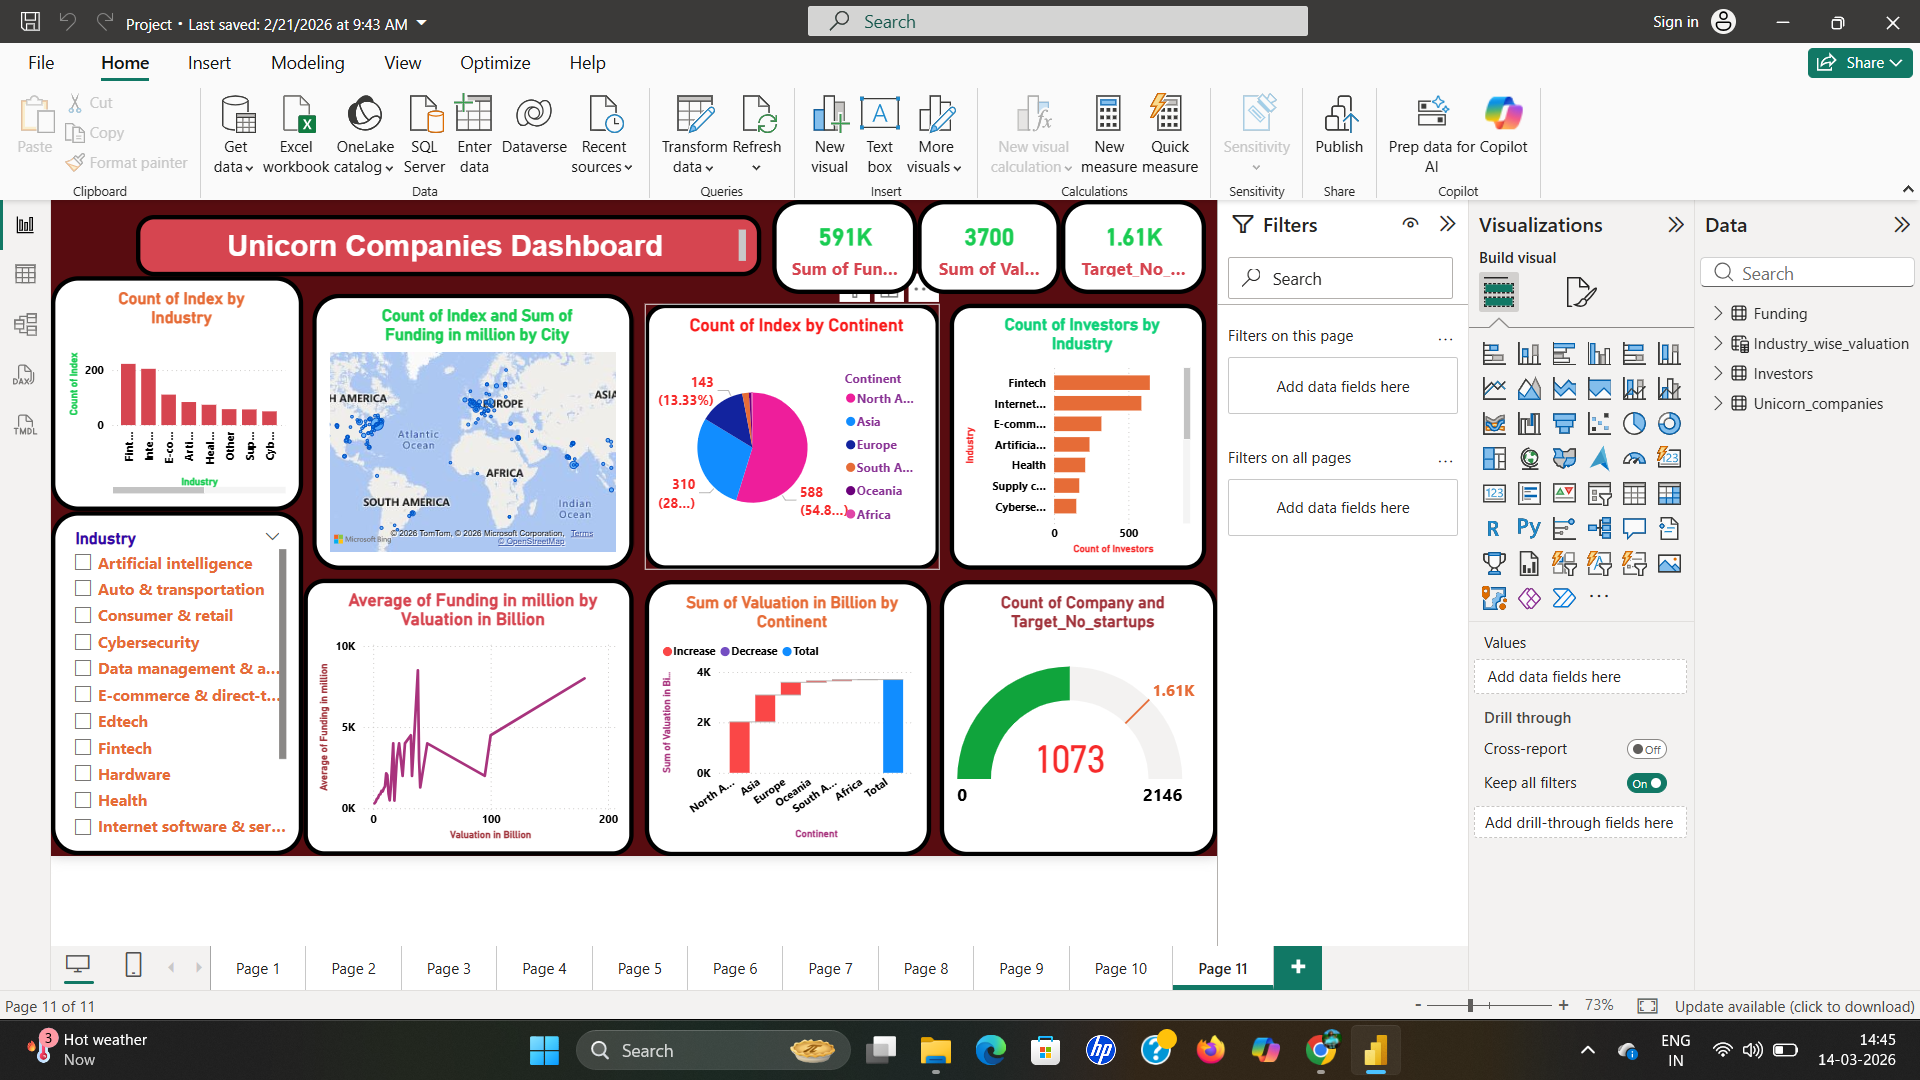

This screenshot's page, from the dashboard's own definition file:
{"tool":"powerbi","page":{"name":"Page 11","canvas":[1280,720],"ordinal":10},"visuals":[{"type":"clusteredColumnChart","fields":{"Category":["Unicorn_companies.Industry"],"Y":["CountNonNull(Unicorn_companies.Index)"]},"box":[0,83.7,277.2,258],"z":0},{"type":"map","fields":{"Category":["Unicorn_companies.City"],"Size":["CountNonNull(Unicorn_companies.Index)"]},"box":[286.8,102.9,352.7,303.3],"z":1000},{"type":"slicer","fields":{"Values":["Unicorn_companies.Industry"]},"box":[0,341.7,277.2,377.4],"z":2000},{"type":"card","fields":{"Values":["Unicorn_companies.Target_No_startups"]},"box":[1108.8,0,159.2,102.9],"z":3000},{"type":"lineChart","fields":{"Category":["Unicorn_companies.Valuation in Billion"],"Y":["Avg(Funding.Funding in million)"]},"box":[276.9,415.3,362.5,304],"z":4000},{"type":"pieChart","fields":{"Category":["Unicorn_companies.Continent"],"Y":["CountNonNull(Unicorn_companies.Index)"]},"box":[651.8,113.9,323.8,292.3],"z":5000},{"type":"waterfallChart","fields":{"Category":["Unicorn_companies.Continent"],"Y":["Sum(Unicorn_companies.Valuation in Billion)"]},"box":[651.8,417.2,314.2,303.3],"z":6000},{"type":"clusteredBarChart","fields":{"Category":["Unicorn_companies.Industry"],"Y":["CountNonNull(Investors.Investors)"]},"box":[986.6,113.9,281.3,292.3],"z":7000},{"type":"gauge","fields":{"TargetValue":["Unicorn_companies.Target_No_startups"],"Y":["CountNonNull(Unicorn_companies.Company)"]},"box":[975.6,417.2,304.6,303.3],"z":8000},{"type":"card","fields":{"Values":["Sum(Unicorn_companies.Valuation in Billion)"]},"box":[950.9,0,157.8,102.9],"z":9000},{"type":"card","fields":{"Values":["Sum(Funding.Funding in million)"]},"box":[791.8,0,159.2,102.9],"z":10000},{"type":"textbox","box":[93.3,16.5,686.1,67.2],"z":11000}]}

Visuals, with their boxes on the page's 1280x720 design canvas (x1, y1, x2, y2). These are canvas units, not pixel positions in the 1920x1080 screenshot, which may show the page scaled, cropped or inside an application window:
clusteredColumnChart - Unicorn_companies.Industry x CountNonNull(Unicorn_companies.Index): bbox(0, 84, 277, 342)
map - Unicorn_companies.City x CountNonNull(Unicorn_companies.Index): bbox(287, 103, 640, 406)
slicer - Unicorn_companies.Industry: bbox(0, 342, 277, 719)
card - Unicorn_companies.Target_No_startups: bbox(1109, 0, 1268, 103)
lineChart - Unicorn_companies.Valuation in Billion x Avg(Funding.Funding in million): bbox(277, 415, 639, 719)
pieChart - Unicorn_companies.Continent x CountNonNull(Unicorn_companies.Index): bbox(652, 114, 976, 406)
waterfallChart - Unicorn_companies.Continent x Sum(Unicorn_companies.Valuation in Billion): bbox(652, 417, 966, 720)
clusteredBarChart - Unicorn_companies.Industry x CountNonNull(Investors.Investors): bbox(987, 114, 1268, 406)
gauge - Unicorn_companies.Target_No_startups x CountNonNull(Unicorn_companies.Company): bbox(976, 417, 1280, 720)
card - Sum(Unicorn_companies.Valuation in Billion): bbox(951, 0, 1109, 103)
card - Sum(Funding.Funding in million): bbox(792, 0, 951, 103)
textbox: bbox(93, 16, 779, 84)
